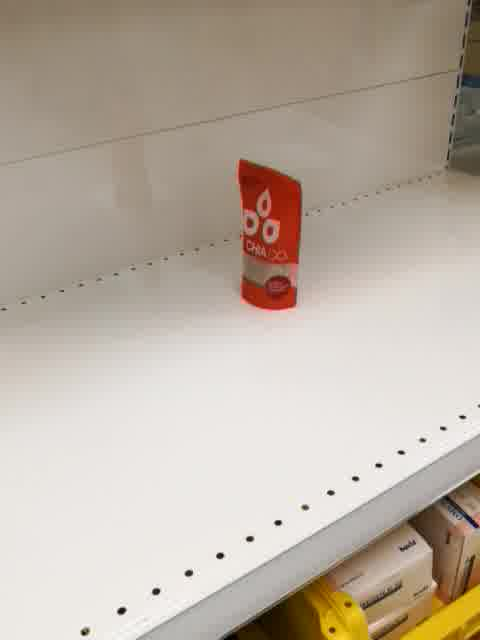whitechia: (231, 155, 306, 313)
